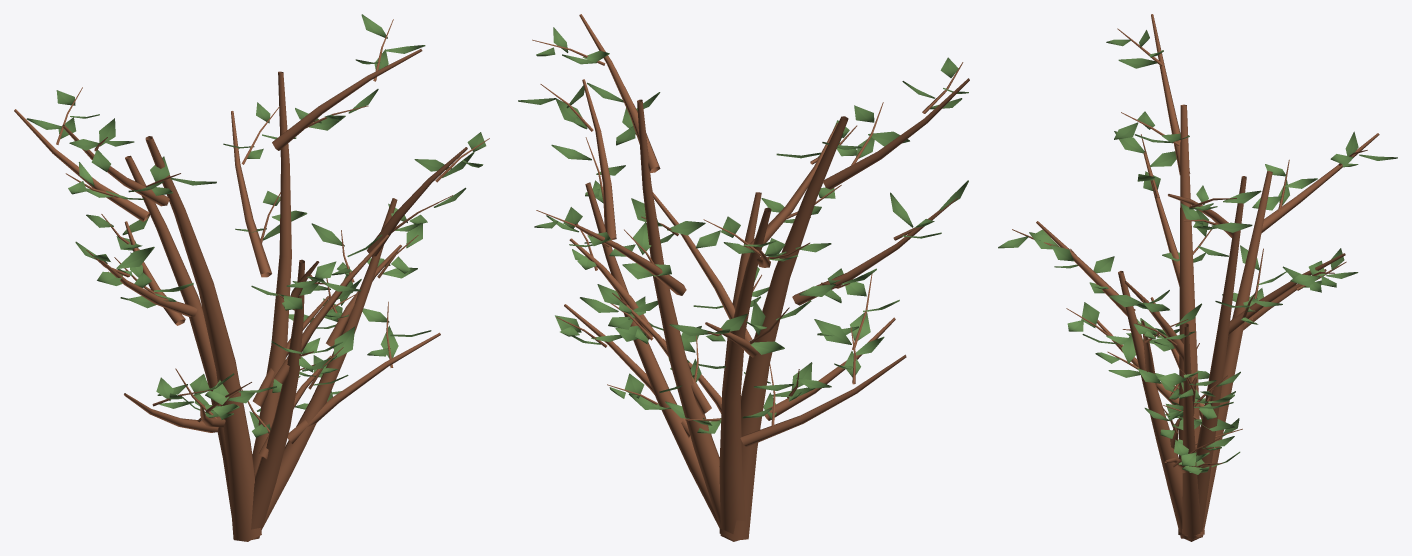
The model's file is Arbousier_1_Low.fbx.
The picture shows the model from 3 angles, left to right: view 1: azimuth 30°, elevation 25°; view 2: azimuth 150°, elevation 25°; view 3: azimuth 270°, elevation 25°; orthographic projection. The views are drawn at different scales.
Parts seen in each view (by area): view 1: Arbousier_1_Low; view 2: Arbousier_1_Low; view 3: Arbousier_1_Low.
Boxes of the visible parts, left/top/right/bottom form: Arbousier_1_Low: left=14, top=14, right=489, bottom=541; Arbousier_1_Low: left=518, top=14, right=969, bottom=541; Arbousier_1_Low: left=998, top=14, right=1397, bottom=541.
Size of the model in its own units: 239 by 256 by 214.
